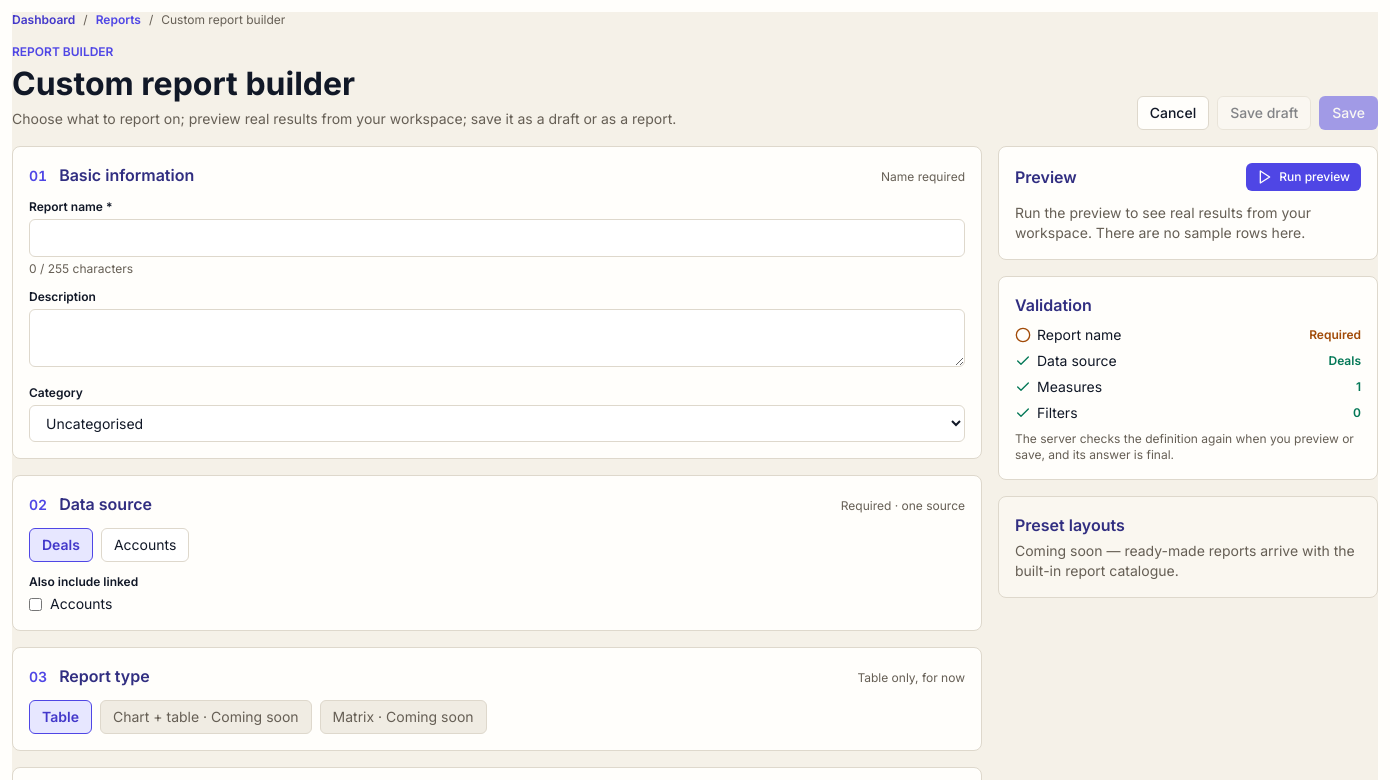
preview › a refused preview shows the server reason, never sample rows
The width and height of the screenshot is (1390, 780).
Expected: the element named "Data source" is shown, top-left (29, 528), bottom-right (189, 562)
Click the button "Run preview". click: point(1304, 177)
box: top-left (1246, 163), bottom-right (1361, 191)
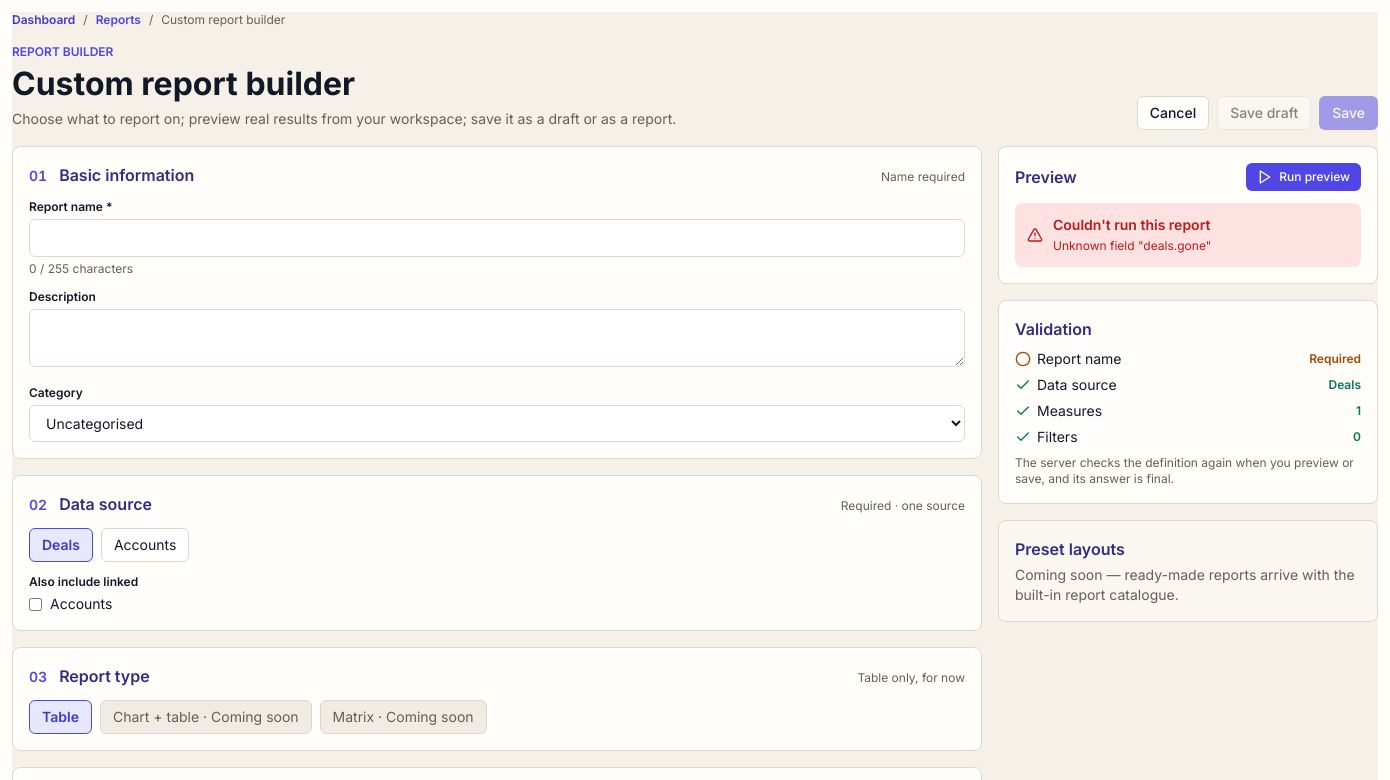
Now the text "Unknown field \"deals.gone\"" is shown, box top-left (1053, 238), bottom-right (1211, 253)
